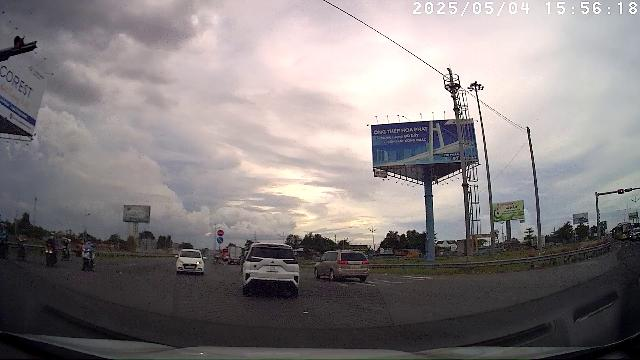102-cam-di-nguoc-chieu: (217, 229, 225, 236)
302a-huong-phai-di-vong-chuong-ngai-vat-1: (217, 236, 224, 244)
